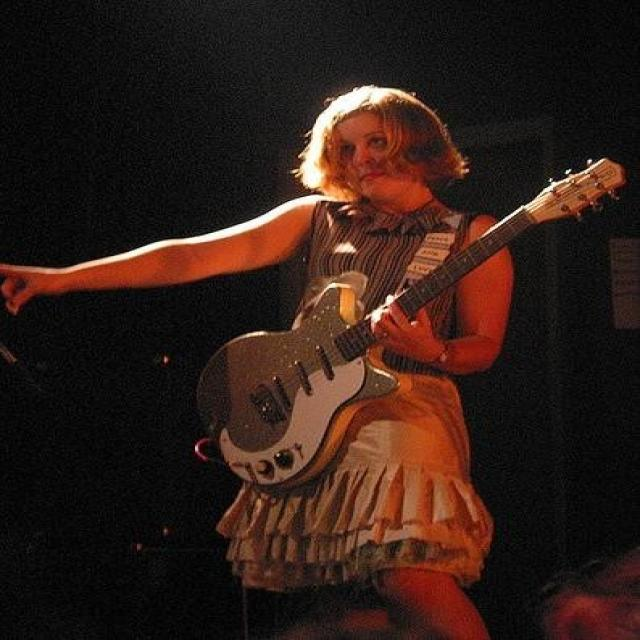guitar: (184, 154, 628, 494)
